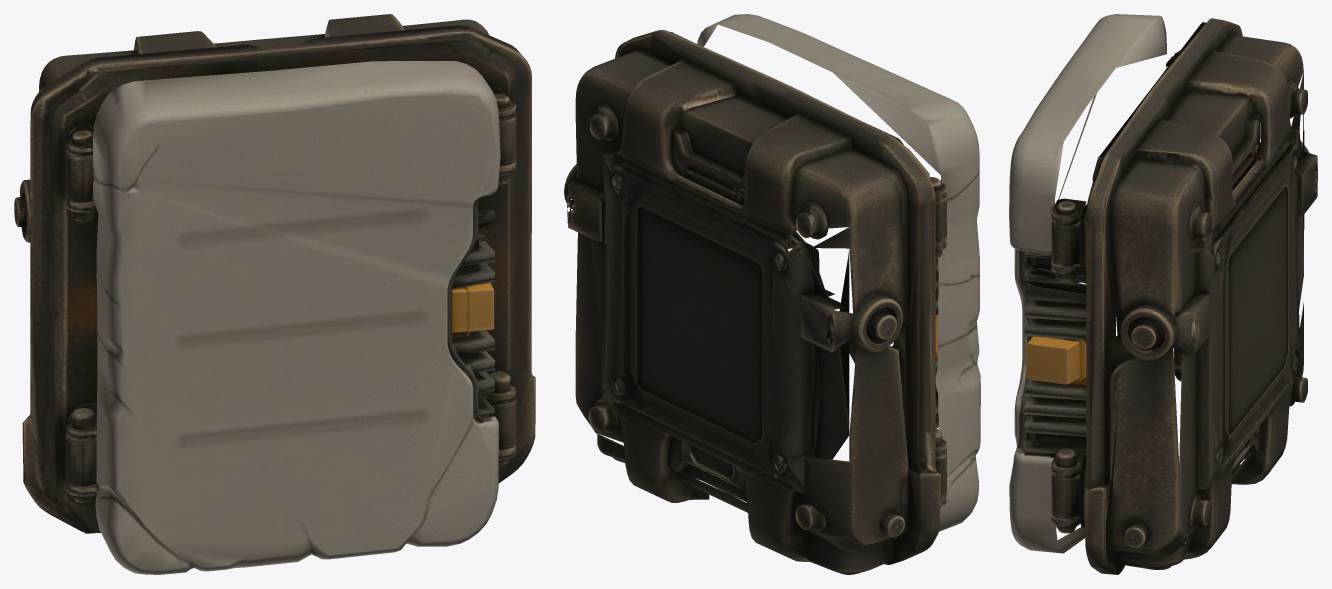
Rendered from commit-tablet.glb.
The picture shows the model from 3 angles, left to right: view 1: azimuth 30°, elevation 25°; view 2: azimuth 150°, elevation 25°; view 3: azimuth 270°, elevation 25°; orthographic projection. The views are drawn at different scales.
Visible parts, largest first — view 1: tripo_0bcddc1d_4684_4370_82e7_84b19612538a; view 2: tripo_0bcddc1d_4684_4370_82e7_84b19612538a; view 3: tripo_0bcddc1d_4684_4370_82e7_84b19612538a.
Part boxes in pixels (x1,y1,x2,y2): tripo_0bcddc1d_4684_4370_82e7_84b19612538a: [14, 14, 535, 574]; tripo_0bcddc1d_4684_4370_82e7_84b19612538a: [564, 14, 980, 574]; tripo_0bcddc1d_4684_4370_82e7_84b19612538a: [1009, 14, 1317, 574].
Size of the model in its own units: 0.999 by 0.9995 by 0.6636.
Materials: 1 (1 with a texture image).
